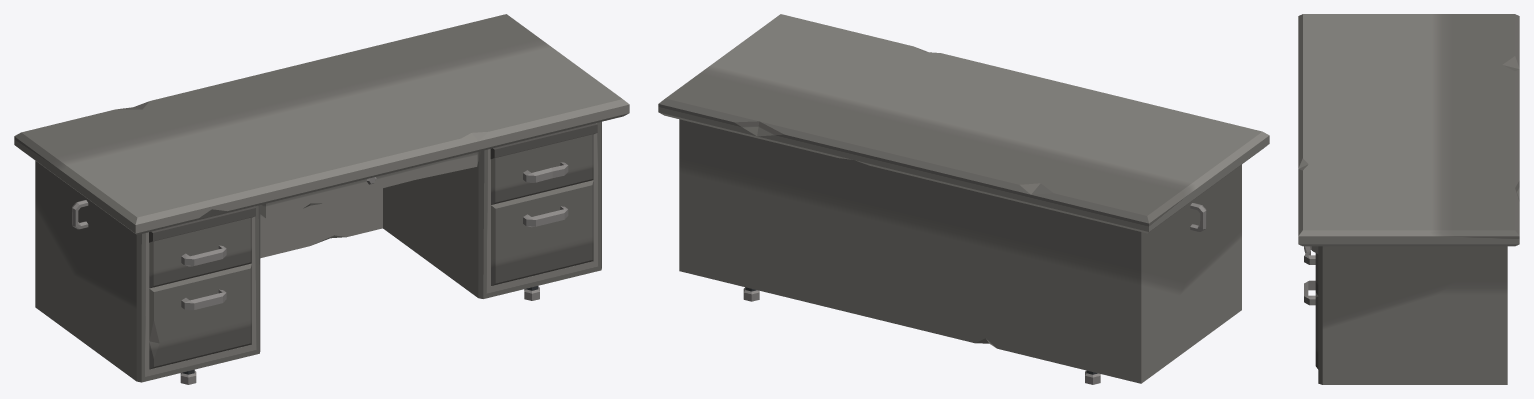
File: SM_Prop_Desk_01.fbx
The picture shows the model from 3 angles, left to right: view 1: azimuth 30°, elevation 25°; view 2: azimuth 150°, elevation 25°; view 3: azimuth 270°, elevation 25°; orthographic projection. The views are drawn at different scales.
Visible parts, largest first — view 1: SM_Prop_Desk_01; view 2: SM_Prop_Desk_01; view 3: SM_Prop_Desk_01.
Boxes of the visible parts, x1,y1,x2,y2 form: SM_Prop_Desk_01: (14, 14, 629, 384); SM_Prop_Desk_01: (658, 14, 1269, 384); SM_Prop_Desk_01: (1298, 14, 1519, 384).
Size of the model in its own units: 216 by 81.63 by 91.9.
